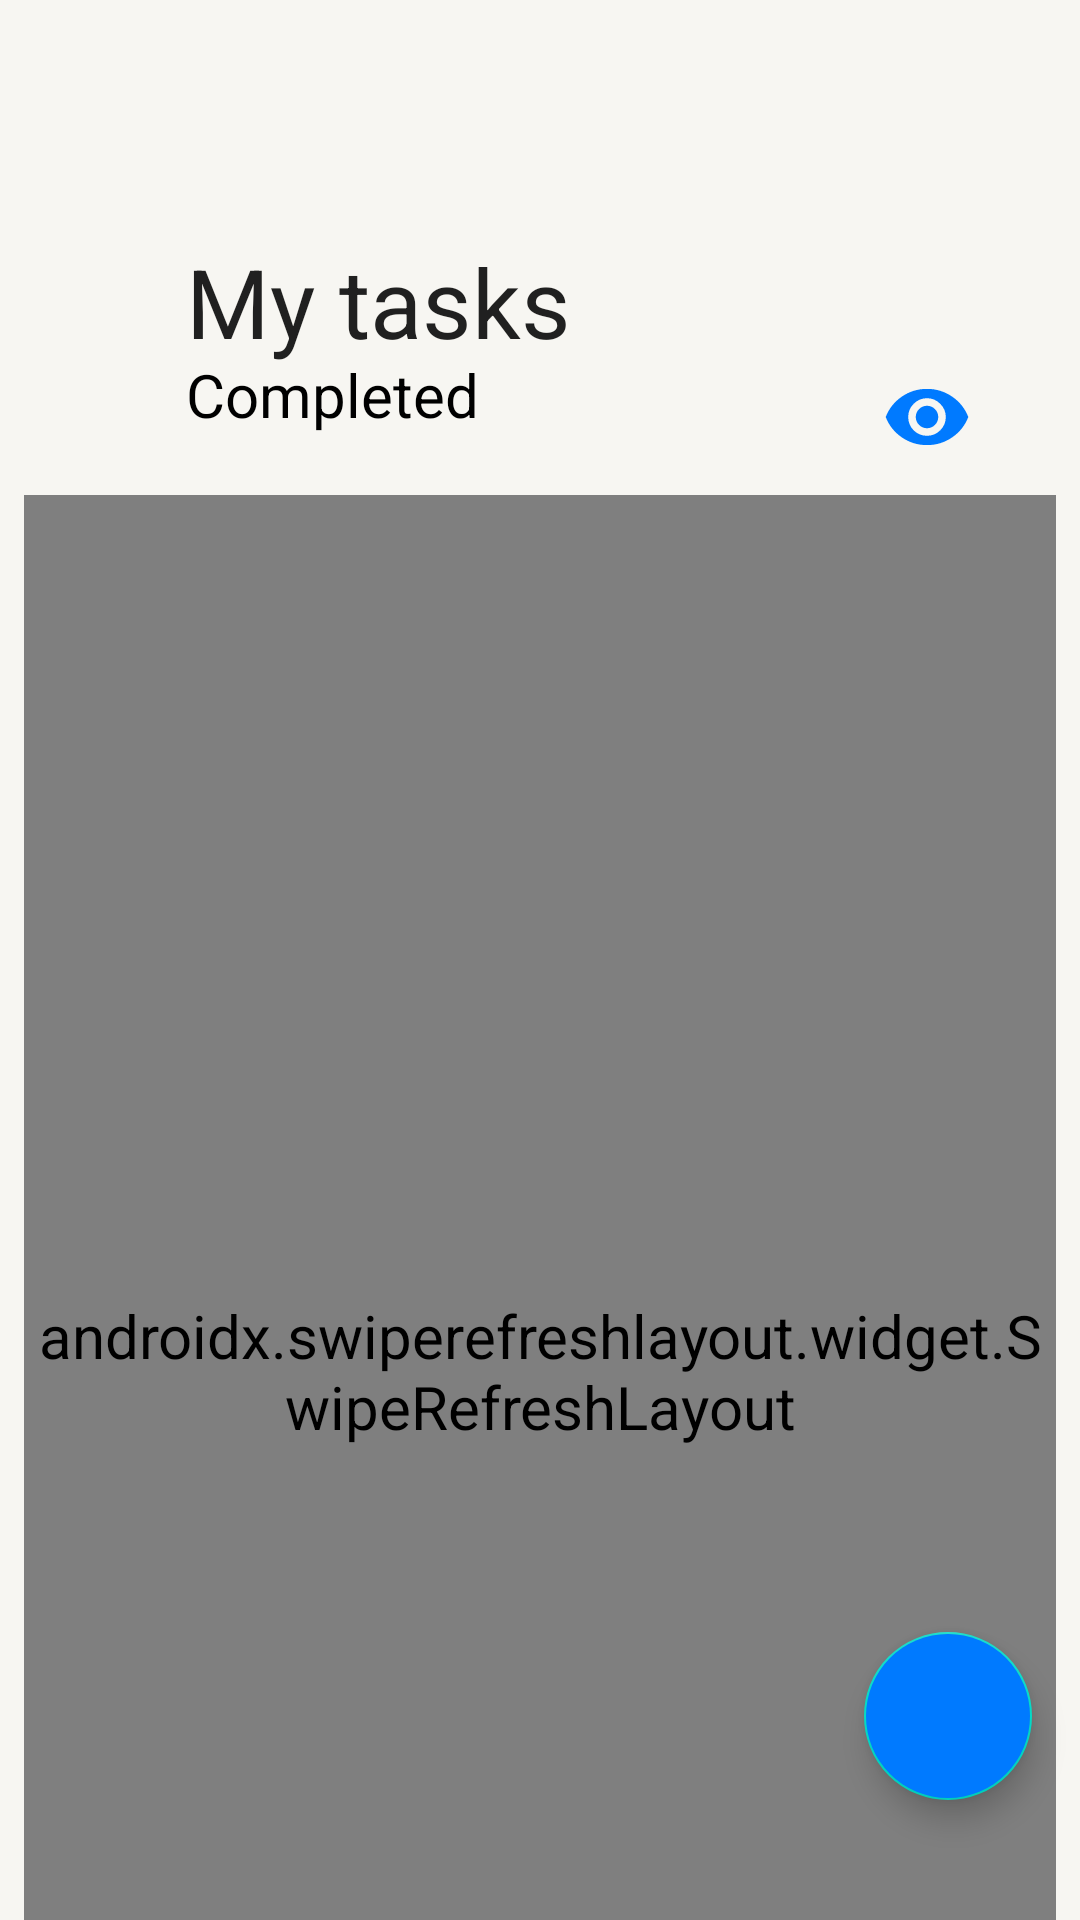

Icon bounding boxes for this 1080px x 1920px phone screenshot, format (x1, y1, x2, y2):
show: (885, 389, 969, 445)
